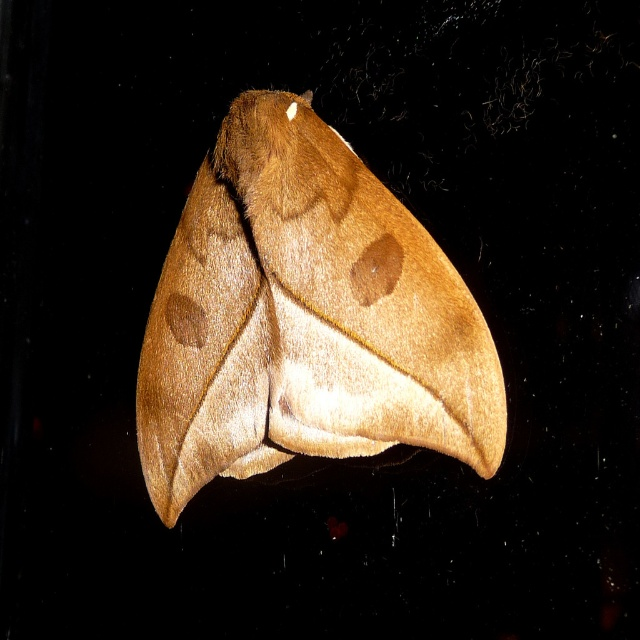Moths and butterflies: (136, 87, 507, 531)
